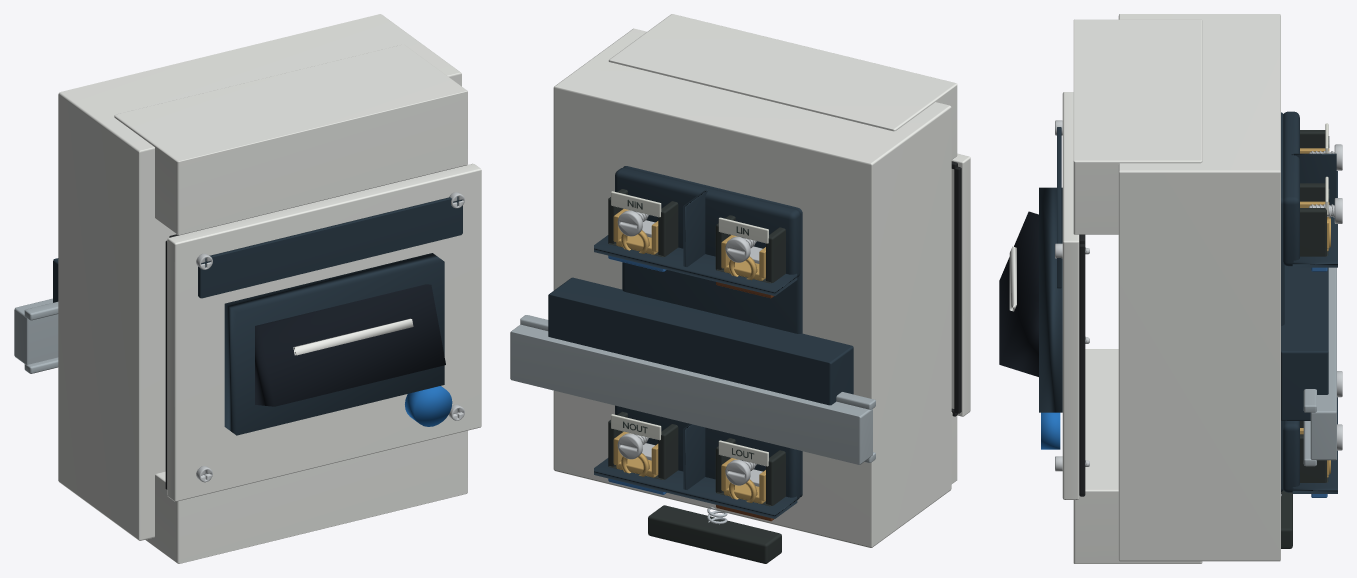
File: rcbo_default.glb
3 views of the same model, side by side, from view 1: azimuth 30°, elevation 25°; view 2: azimuth 150°, elevation 25°; view 3: azimuth 270°, elevation 25° (orthographic).
Parts seen in each view (by area): view 1: part:body · Original 7dbee62c, part:cover, motion:toggle, part:actuator, part:mounting · Original 2a8198d3, part:body.001, detail:enclosure-gasket-and-fixings · Detail rubber gasket, detail:enclosure-gasket-and-fixings · Detail zinc plated fix; view 2: part:body · Original 7dbee62c, part:terminals · Original a463fd81, part:mounting · Original 2a8198d3, part:body, DIN spring slider, part:cover, detail:enclosure-gasket-and-fixings · Detail rubber gasket, detail:terminal-clamp:LIN · Detail moulded engineering polym, detail:terminal-clamp:NOUT · Detail moulded engineering poly, detail:terminal-clamp:LOUT · Detail moulded engineering poly, detail:terminal-clamp:NIN · Detail moulded engineering polym, detail:terminal-clamp:NOUT · Detail machined brass (+11 smaller); view 3: part:body · Original 7dbee62c, part:terminals · Original a463fd81, part:cover, part:body, motion:toggle, part:actuator, part:mounting · Original 2a8198d3, detail:enclosure-gasket-and-fixings · Detail rubber gasket, detail:terminal-clamp:NIN · Detail moulded engineering polym, part:body.001, DIN spring slider, detail:terminal-clamp:NOUT · Detail moulded engineering poly (+2 smaller).
Part boxes in pixels (x1,y1,x2,y2): part:body · Original 7dbee62c: (58, 14, 467, 563); part:cover: (167, 163, 481, 501); motion:toggle: (255, 284, 445, 406); part:actuator: (224, 253, 444, 435); part:mounting · Original 2a8198d3: (14, 298, 58, 373); part:body.001: (405, 386, 452, 426); detail:enclosure-gasket-and-fixings · Detail rubber gasket: (165, 165, 466, 489); detail:enclosure-gasket-and-fixings · Detail zinc plated fix: (196, 192, 464, 482); part:body · Original 7dbee62c: (553, 14, 957, 547); part:terminals · Original a463fd81: (594, 166, 802, 518); part:mounting · Original 2a8198d3: (510, 315, 875, 464); part:body: (548, 277, 853, 405); DIN spring slider: (648, 505, 781, 563); part:cover: (951, 153, 970, 416); detail:enclosure-gasket-and-fixings · Detail rubber gasket: (951, 161, 961, 416); detail:terminal-clamp:LIN · Detail moulded engineering polym: (715, 215, 785, 283); detail:terminal-clamp:NOUT · Detail moulded engineering poly: (608, 411, 678, 479); detail:terminal-clamp:LOUT · Detail moulded engineering poly: (715, 438, 785, 506); detail:terminal-clamp:NIN · Detail moulded engineering polym: (608, 189, 678, 257); detail:terminal-clamp:NOUT · Detail machined brass: (613, 431, 658, 477); part:body · Original 7dbee62c: (1073, 14, 1280, 563); part:terminals · Original a463fd81: (1281, 111, 1337, 493); part:cover: (1057, 92, 1079, 499); part:body: (1281, 265, 1328, 420); motion:toggle: (999, 211, 1038, 376); part:actuator: (1039, 187, 1062, 412); part:mounting · Original 2a8198d3: (1303, 267, 1336, 466); detail:enclosure-gasket-and-fixings · Detail rubber gasket: (1079, 234, 1085, 496); detail:terminal-clamp:NIN · Detail moulded engineering polym: (1300, 183, 1328, 256); part:body.001: (1041, 412, 1060, 449); DIN spring slider: (1281, 490, 1292, 548); detail:terminal-clamp:NOUT · Detail moulded engineering poly: (1300, 421, 1328, 482).
Bounding box in the file's own units: 0.8123 × 0.9369 × 0.678.
